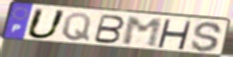B: (91, 13, 127, 45)
H: (155, 18, 194, 51)
M: (121, 16, 164, 49)
Q: (61, 12, 94, 43)
S: (189, 21, 224, 54)
U: (24, 7, 69, 40)
